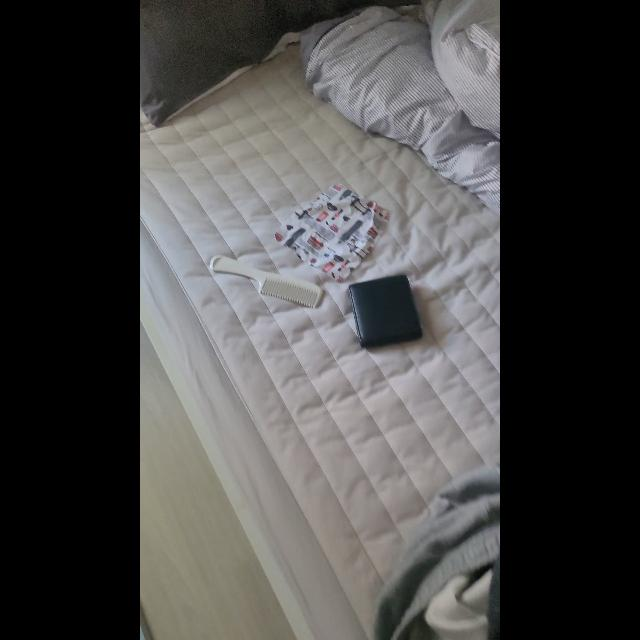COMB: (210, 255, 322, 307)
Glasses cleaning cloth: (276, 184, 390, 282)
WALLET: (350, 276, 422, 348)
